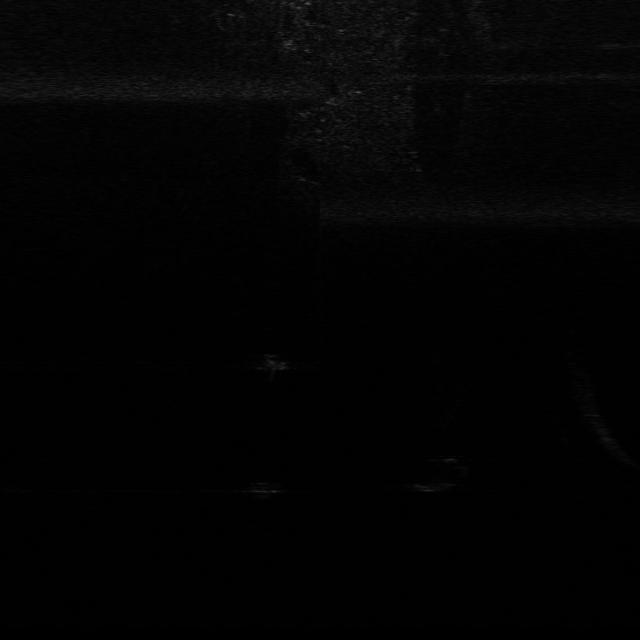cube: (242, 479, 283, 501)
square cage: (253, 349, 292, 373)
tyre: (402, 456, 471, 494)
